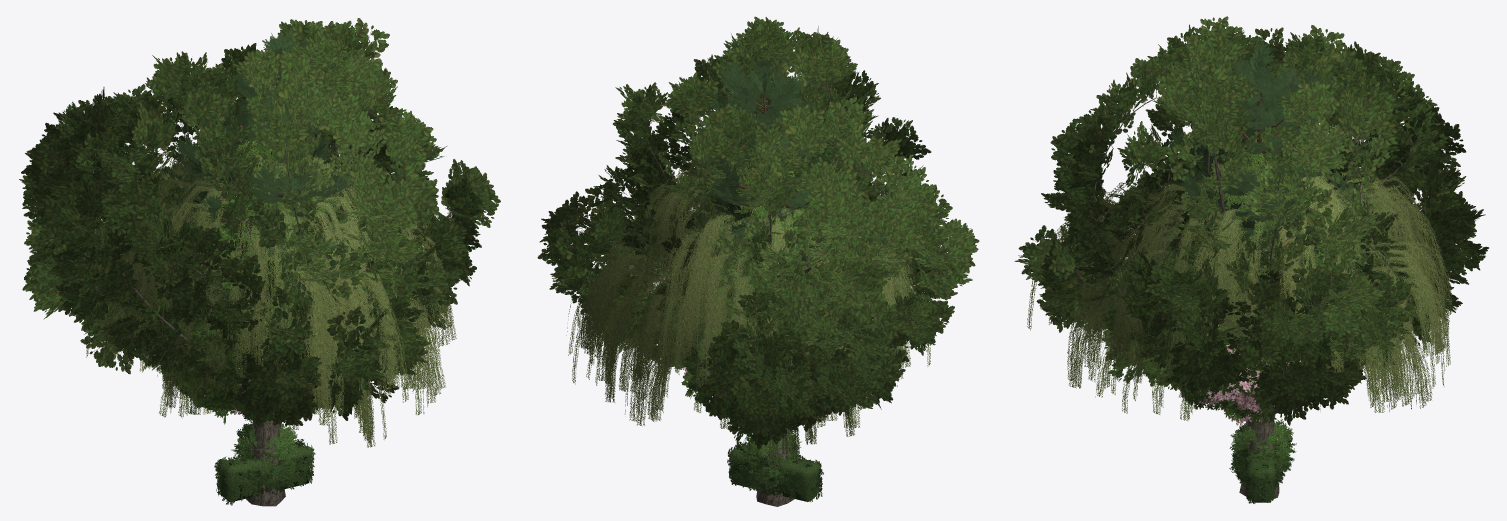
Rendered from city_trees.glb.
3 views of the same model, side by side, from view 1: azimuth 30°, elevation 25°; view 2: azimuth 150°, elevation 25°; view 3: azimuth 270°, elevation 25° (orthographic). The views are drawn at different scales.
Visible parts, largest first — view 1: CT_oak, CT_willow, CT_plane, CT_pine, CT_hedge, CT_shrub_b, CT_maple, CT_linden, CT_shrub_a, CT_birch; view 2: CT_oak, CT_willow, CT_pine, CT_plane, CT_hedge, CT_shrub_b, CT_maple, CT_shrub_a, CT_birch, CT_linden; view 3: CT_oak, CT_willow, CT_pine, CT_plane, CT_shrub_b, CT_maple, CT_hedge, CT_cherry, CT_birch, CT_linden.
Boxes of the visible parts, <box> form: CT_oak: <box>19,18,500,506</box>; CT_willow: <box>86,133,456,447</box>; CT_plane: <box>128,132,353,368</box>; CT_pine: <box>173,32,355,319</box>; CT_hedge: <box>214,439,315,505</box>; CT_shrub_b: <box>231,421,299,486</box>; CT_maple: <box>127,207,350,424</box>; CT_linden: <box>145,191,296,419</box>; CT_shrub_a: <box>240,451,295,496</box>; CT_birch: <box>218,140,343,338</box>; CT_oak: <box>537,16,979,506</box>; CT_willow: <box>566,150,930,462</box>; CT_pine: <box>700,56,863,253</box>; CT_plane: <box>670,149,859,347</box>; CT_hedge: <box>727,441,823,501</box>; CT_shrub_b: <box>741,430,801,488</box>; CT_maple: <box>681,250,846,432</box>; CT_shrub_a: <box>749,453,792,497</box>; CT_birch: <box>728,161,811,284</box>; CT_linden: <box>684,198,873,371</box>; CT_oak: <box>1014,16,1488,497</box>; CT_willow: <box>1027,141,1452,446</box>; CT_pine: <box>1152,42,1348,251</box>; CT_plane: <box>1130,148,1388,368</box>; CT_shrub_b: <box>1229,419,1296,479</box>; CT_maple: <box>1158,219,1381,425</box>; CT_hedge: <box>1244,442,1276,503</box>; CT_cherry: <box>1193,325,1303,425</box>; CT_birch: <box>1189,125,1325,324</box>; CT_linden: <box>1207,182,1324,410</box>.
Size of the model in its own units: 14.21 by 15.41 by 14.36.
18 materials, 17 textured.
